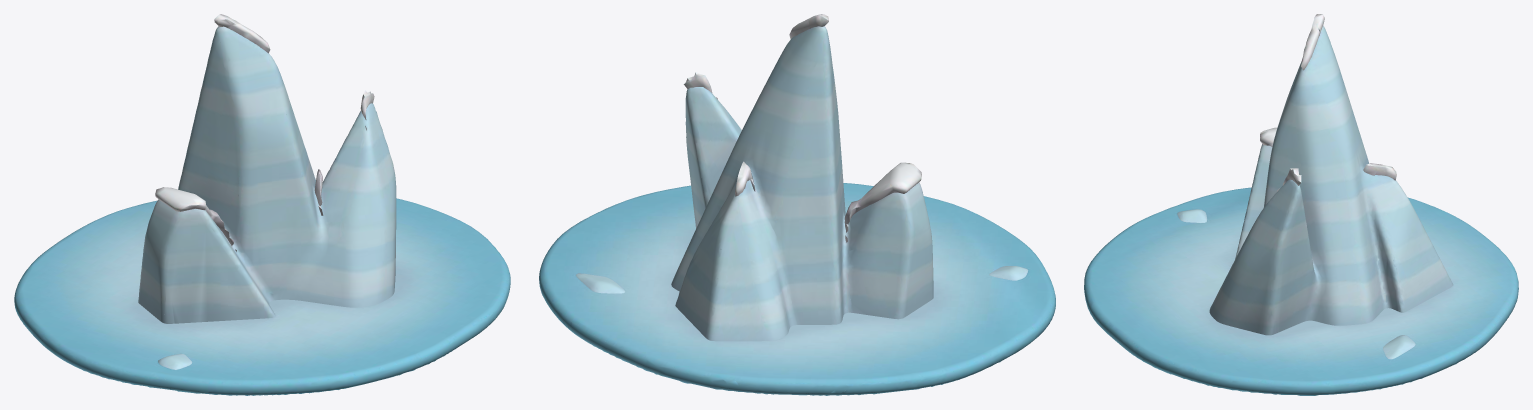
File: iceberg.glb
3 renders of one model, left to right at view 1: azimuth 30°, elevation 25°; view 2: azimuth 150°, elevation 25°; view 3: azimuth 270°, elevation 25°, orthographic. The views are drawn at different scales.
Visible parts, largest first — view 1: iceberg_body; view 2: iceberg_body; view 3: iceberg_body.
Part boxes in pixels (box(x1,y1,x2,y2)): iceberg_body: box(14, 14, 510, 395); iceberg_body: box(539, 14, 1055, 395); iceberg_body: box(1084, 14, 1518, 395).
Bounding box in the file's own units: 8.82 × 5.48 × 8.06.
1 material, 1 textured.
